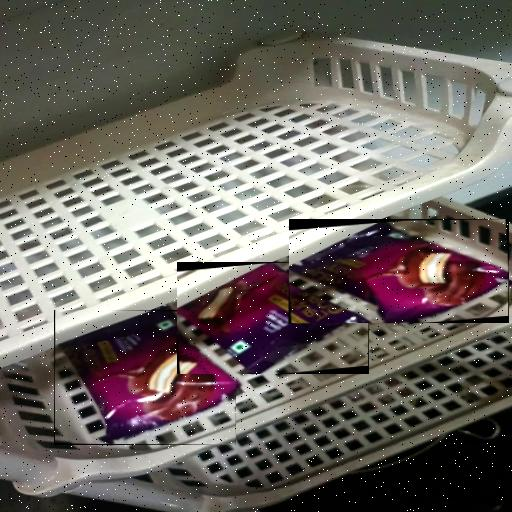Choco Pie: (54, 310, 236, 445), (289, 219, 509, 323), (177, 262, 369, 374)
